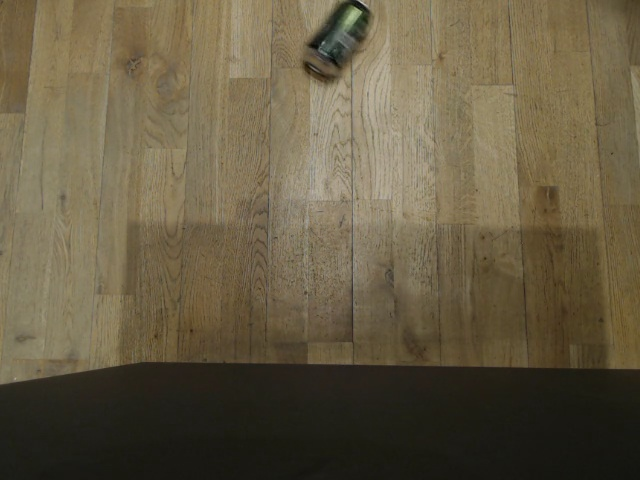beer: (303, 0, 375, 81)
